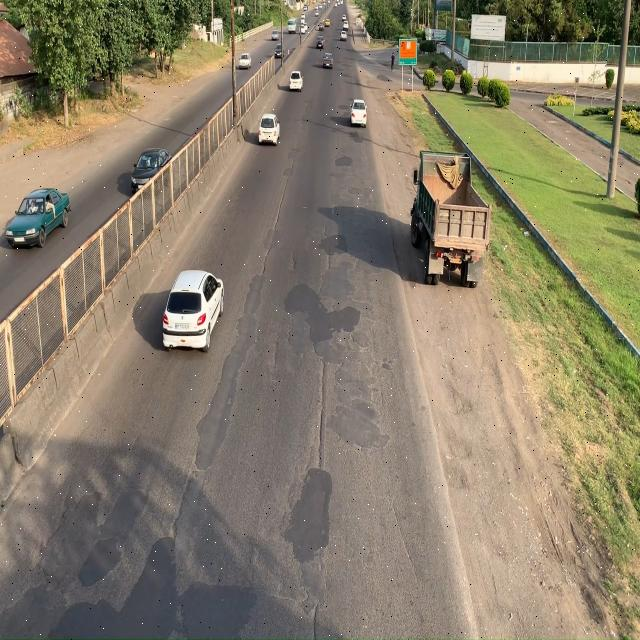Truck: (411, 150, 494, 290)
cars: (163, 270, 223, 350), (5, 186, 70, 248), (130, 148, 172, 192), (258, 111, 280, 147)
